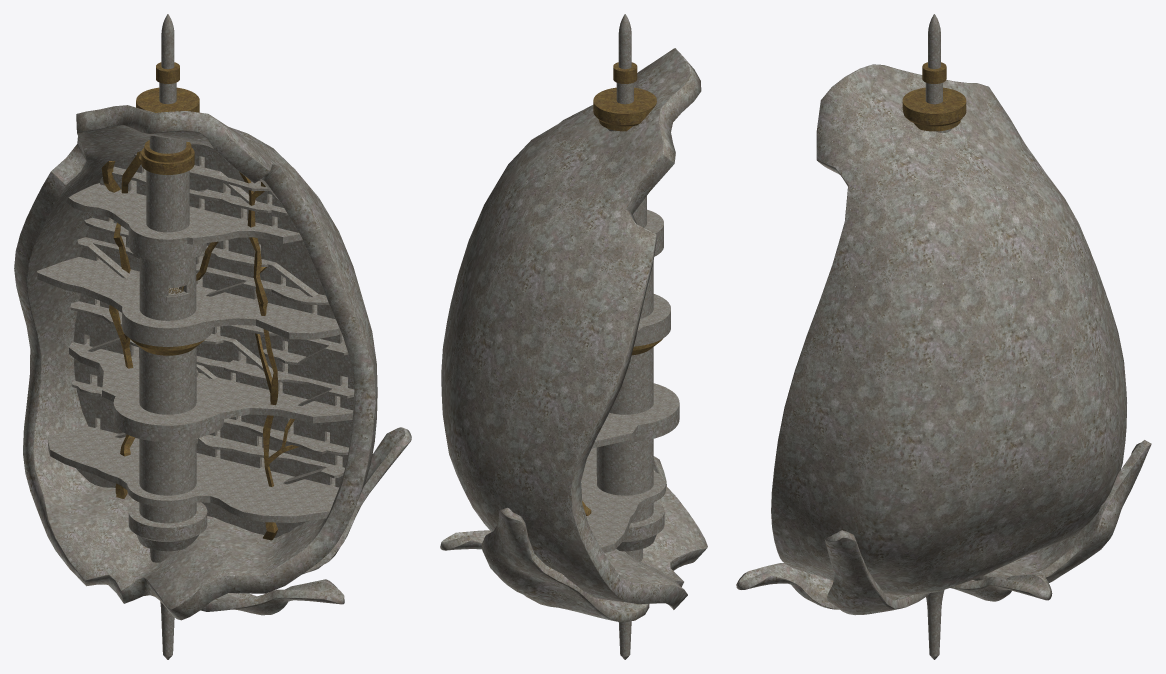
File: mg_12_cage_1.fbx
The picture shows the model from 3 angles, left to right: view 1: azimuth 30°, elevation 25°; view 2: azimuth 150°, elevation 25°; view 3: azimuth 270°, elevation 25°; orthographic projection.
Visible parts, largest first — view 1: mg_12_cage_1; view 2: mg_12_cage_1; view 3: mg_12_cage_1.
Boxes of the visible parts, x1,y1,x2,y2 form: mg_12_cage_1: [14, 14, 411, 659]; mg_12_cage_1: [440, 14, 707, 659]; mg_12_cage_1: [736, 14, 1151, 659].
Size of the model in its own units: 12103 by 27152 by 15825.
